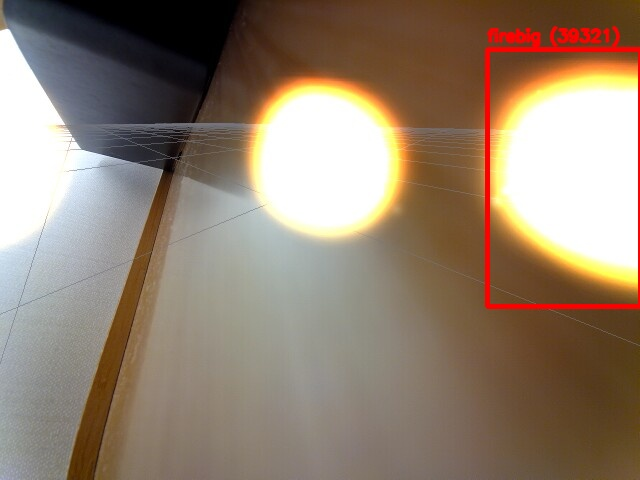firebig: (487, 49, 640, 306)
